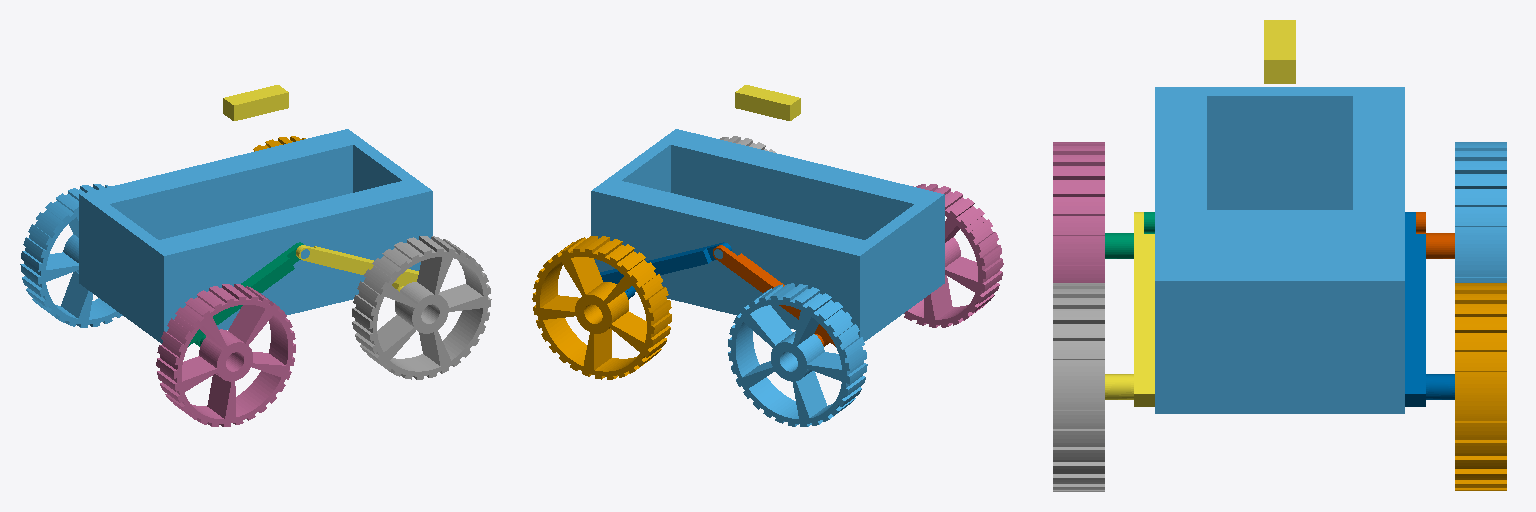
URDF robot description (patasmonkey):
<?xml version="1.0" encoding="utf-8"?>
<robot name="patasmonkey">

	<link name="base_link"/>
	<!-- 最初は車体主要部をbase_linkとしていたが、CADと座標系を合わせるために回したりしたいので大きさゼロの仮想base_linkを定義し、車体主要部リンク（body）をぶら下げる形とした -->

	<link name="body">
		<inertial>
			<mass value="8.878175441817634"/>
			<origin rpy="0 0 0" xyz="3.605945130529295e-17 -1.370259149601132e-15 0.061700238722655266"/>
			<inertia ixx="0.180154674257629" ixy="5.122274160385088e-17" ixz="1.9752846156165697e-17" iyy="0.0824654290636114" iyz="4.531262737562093e-16" izz="0.22992441349024134"/>
		</inertial>
		<collision name="body_collision">
			<origin rpy="0.0 -0.0 0.0" xyz="0.0 0.0 0.0"/>
			<geometry>
				<mesh filename="package://pm_description/meshes/body.stl" scale="0.001 0.001 0.001"/>
			</geometry>
		</collision>
		<visual name="body_visual">
			<origin rpy="0.0 -0.0 0.0" xyz="0.0 0.0 0.0"/>
			<geometry>
				<mesh filename="package://pm_description/meshes/body.stl" scale="0.001 0.001 0.001"/>
			</geometry>
		</visual>
	</link>
	<link name="wheelarm_rightrear">
		<inertial>
			<mass value="0.11129201234266223"/>
			<origin rpy="0 0 0" xyz="0.011864073144704071 -0.11539021627920214 -0.057812154810178235"/>
			<inertia ixx="0.00044081613489392916" ixy="1.3004019884530748e-05" ixz="1.1126423064250356e-05" iyy="0.00011346844003993653" iyz="-0.0001751098519904491" izz="0.00034575987847753427"/>
		</inertial>
		<collision name="wheelarm_rightrear_collision">
			<origin rpy="0.0 0.4363323129985771 -1.5707963267948966" xyz="1.3877787807814457e-17 7.50720839698537e-18 -1.3877787807814457e-17"/>
			<geometry>
				<mesh filename="package://pm_description/meshes/wheelarm_1.stl" scale="0.001 0.001 0.001"/>
			</geometry>
		</collision>
		<visual name="wheelarm_rightrear_visual">
			<origin rpy="0.0 0.4363323129985771 -1.5707963267948966" xyz="1.3877787807814457e-17 7.50720839698537e-18 -1.3877787807814457e-17"/>
			<geometry>
				<mesh filename="package://pm_description/meshes/wheelarm_1.stl" scale="0.001 0.001 0.001"/>
			</geometry>
		</visual>
	</link>
	<link name="wheelarm_rightfront">
		<inertial>
			<mass value="0.1112920123426623"/>
			<origin rpy="0 0 0" xyz="0.002309209808224133 0.11539021627920193 -0.05781215481017842"/>
			<inertia ixx="0.00044081613489390466" ixy="-7.771667430638374e-06" ixz="8.488137973844268e-06" iyy="0.00011326169495537535" iyz="0.00017510985199043966" izz="0.00034555313339295284"/>
		</inertial>
		<collision name="wheelarm_rightfront_collision">
			<origin rpy="3.141592653589793 0.4363323129985816 1.5707963267948966" xyz="0.010000000000000009 0.0 0.0"/>
			<geometry>
				<mesh filename="package://pm_description/meshes/wheelarm_2.stl" scale="0.001 0.001 0.001"/>
			</geometry>
		</collision>
		<visual name="wheelarm_rightfront_visual">
			<origin rpy="3.141592653589793 0.4363323129985816 1.5707963267948966" xyz="0.010000000000000009 0.0 0.0"/>
			<geometry>
				<mesh filename="package://pm_description/meshes/wheelarm_2.stl" scale="0.001 0.001 0.001"/>
			</geometry>
		</visual>
	</link>
	<link name="wheelarm_leftfront">
		<inertial>
			<mass value="0.11129201234266223"/>
			<origin rpy="0 0 0" xyz="-0.011864073144703974 0.115390216279202 -0.057812154810178505"/>
			<inertia ixx="0.0004408161348938993" ixy="1.3004019884530748e-05" ixz="-1.1126423064250356e-05" iyy="0.00011346844003993298" iyz="0.00017510985199043798" izz="0.0003457598784775087"/>
		</inertial>
		<collision name="wheelarm_leftfront_collision">
			<origin rpy="0.0 0.4363323129985823 1.5707963267948966" xyz="0.0 0.0 0.0"/>
			<geometry>
				<mesh filename="package://pm_description/meshes/wheelarm_1.stl" scale="0.001 0.001 0.001"/>
			</geometry>
		</collision>
		<visual name="wheelarm_leftfront_visual">
			<origin rpy="0.0 0.4363323129985823 1.5707963267948966" xyz="0.0 0.0 0.0"/>
			<geometry>
				<mesh filename="package://pm_description/meshes/wheelarm_1.stl" scale="0.001 0.001 0.001"/>
			</geometry>
		</visual>
	</link>
	<link name="wheelarm_leftrear">
		<inertial>
			<mass value="0.1112920123426623"/>
			<origin rpy="0 0 0" xyz="-0.002309209808224133 -0.11539021627920193 -0.05781215481017848"/>
			<inertia ixx="0.00044081613489389967" ixy="-7.771667430638374e-06" ixz="-8.488137973844356e-06" iyy="0.00011326169495537428" iyz="-0.00017510985199043806" izz="0.00034555313339294997"/>
		</inertial>
		<collision name="wheelarm_leftrear_collision">
			<origin rpy="3.141592653589793 0.4363323129985823 -1.5707963267948966" xyz="-0.010000000000000009 0.0 0.0"/>
			<geometry>
				<mesh filename="package://pm_description/meshes/wheelarm_2.stl" scale="0.001 0.001 0.001"/>
			</geometry>
		</collision>
		<visual name="wheelarm_leftrear_visual">
			<origin rpy="3.141592653589793 0.4363323129985823 -1.5707963267948966" xyz="-0.010000000000000009 0.0 0.0"/>
			<geometry>
				<mesh filename="package://pm_description/meshes/wheelarm_2.stl" scale="0.001 0.001 0.001"/>
			</geometry>
		</visual>
	</link>
	<link name="wheel_rightrear">
		<inertial>
			<mass value="0.6459736269326636"/>
			<origin rpy="0 0 0" xyz="0.02500000000000005 -8.548717289613705e-14 -3.995788481992932e-14"/>
			<inertia ixx="0.0038053875071388916" ixy="2.842170943040401e-18" ixz="1.226796442210798e-18" iyy="0.002037271592695285" iyz="2.1636328284557748e-13" izz="0.0020372715923322174"/>
		</inertial>
		<collision name="wheel_rightrear_collision">
			<origin rpy="0.0 -0.4363323129985797 1.5707963267948966" xyz="0.05000000000000002 0.0 0.0"/>
			<geometry>
				<mesh filename="package://pm_description/meshes/wheel.stl" scale="0.001 0.001 0.001"/>
			</geometry>
		</collision>
		<visual name="wheel_rightrear_visual">
			<origin rpy="0.0 -0.4363323129985797 1.5707963267948966" xyz="0.05000000000000002 0.0 0.0"/>
			<geometry>
				<mesh filename="package://pm_description/meshes/wheel.stl" scale="0.001 0.001 0.001"/>
			</geometry>
		</visual>
	</link>
	<link name="wheel_rightfront">
		<inertial>
			<mass value="0.6459736269326636"/>
			<origin rpy="0 0 0" xyz="0.025000000000000022 -8.554268404736831e-14 3.978946078869727e-14"/>
			<inertia ixx="0.0038053875071388916" ixy="-2.842170943040401e-18" ixz="4.3021142204224814e-20" iyy="0.002037271592695302" iyz="-2.163487167194944e-13" izz="0.0020372715923322004"/>
		</inertial>
		<collision name="wheel_rightfront_collision">
			<origin rpy="0.0 0.4363323129985819 1.5707963267948966" xyz="0.04999999999999999 0.0 0.0"/>
			<geometry>
				<mesh filename="package://pm_description/meshes/wheel.stl" scale="0.001 0.001 0.001"/>
			</geometry>
		</collision>
		<visual name="wheel_rightfront_visual">
			<origin rpy="0.0 0.4363323129985819 1.5707963267948966" xyz="0.04999999999999999 0.0 0.0"/>
			<geometry>
				<mesh filename="package://pm_description/meshes/wheel.stl" scale="0.001 0.001 0.001"/>
			</geometry>
		</visual>
	</link>
	<link name="wheel_leftfront">
		<inertial>
			<mass value="0.6459736269326636"/>
			<origin rpy="0 0 0" xyz="-0.02500000000000005 8.545941732052142e-14 -3.9957891596192896e-14"/>
			<inertia ixx="0.0038053875071388916" ixy="2.842170943040401e-18" ixz="-1.2261025528204072e-18" iyy="0.0020372715926952906" iyz="-2.1636328284557748e-13" izz="0.0020372715923322117"/>
		</inertial>
		<collision name="wheel_leftfront_collision">
			<origin rpy="0.0 -0.4363323129985824 -1.5707963267948966" xyz="-0.05000000000000002 0.0 0.0"/>
			<geometry>
				<mesh filename="package://pm_description/meshes/wheel.stl" scale="0.001 0.001 0.001"/>
			</geometry>
		</collision>
		<visual name="wheel_leftfront_visual">
			<origin rpy="0.0 -0.4363323129985824 -1.5707963267948966" xyz="-0.05000000000000002 0.0 0.0"/>
			<geometry>
				<mesh filename="package://pm_description/meshes/wheel.stl" scale="0.001 0.001 0.001"/>
			</geometry>
		</visual>
	</link>
	<link name="wheel_leftrear">
		<inertial>
			<mass value="0.6459736269326636"/>
			<origin rpy="0 0 0" xyz="-0.025000000000000022 8.554268404736831e-14 3.9789454012433695e-14"/>
			<inertia ixx="0.0038053875071388916" ixy="0.0" ixz="-4.3021142204224814e-20" iyy="0.002037271592695305" iyz="2.163487167194944e-13" izz="0.002037271592332195"/>
		</inertial>
		<collision name="wheel_leftrear_collision">
			<origin rpy="0.0 0.4363323129985823 -1.5707963267948966" xyz="-0.04999999999999999 0.0 0.0"/>
			<geometry>
				<mesh filename="package://pm_description/meshes/wheel.stl" scale="0.001 0.001 0.001"/>
			</geometry>
		</collision>
		<visual name="wheel_leftrear_visual">
			<origin rpy="0.0 0.4363323129985823 -1.5707963267948966" xyz="-0.04999999999999999 0.0 0.0"/>
			<geometry>
				<mesh filename="package://pm_description/meshes/wheel.stl" scale="0.001 0.001 0.001"/>
			</geometry>
		</visual>
	</link>

	<!-- HWT905-RS485 IMU -->
	<link name="wit_imu_link">
		<visual>
			<origin xyz="0 0 0" rpy="0 0 0"/>
			<geometry>
			<box size="0.04 0.04 0.015"/>
			</geometry>
		</visual>
	</link>

	<!-- OAK-D S2 body/reference point -->
	<link name="oakd_link">
		<visual>
		<origin xyz="0 0 0" rpy="0 0 0"/>
		<geometry>
			<box size="0.09 0.03 0.025"/>
		</geometry>
		</visual>
	</link>
	<!-- OAK-D internal IMU frame -->
	<link name="oakd_imu_link"/>
	<!-- Mono camera physical frames: ROS body-style frames, x forward, y left, z up -->
  	<link name="cam0_link"/>
  	<link name="cam1_link"/>
	<!-- Mono camera optical frames: x right, y down, z forward -->
	<link name="cam0_optical_frame"/>
	<link name="cam1_optical_frame"/>
	<!-- RGB camera frame -->
	<link name="rgb_camera_link"/>
	<link name="rgb_camera_optical_frame"/>

	<!-- GPSのリンク（アンテナ位置を基準） -->
	<link name="gps_link"/>
	<!-- Visual Odometry用の仮想リンク -->
	<link name="openvins_imu_link"/>

	<!-- 大きさを持たないbase_linkから車体主要部リンクであるbodyに回転した固定リンクを貼ることで、CADの座標系からROS 2座標系に変換（X座標が車両前方になるようにする） -->
	<joint name="base_link_to_body" type="fixed">
		<parent link="base_link"/>
		<child link="body"/>
		<origin xyz="0 0 0" rpy="0 0 -1.57079632679"/>
	</joint>
	<joint name="wheelarmjoint_rightrear" type="continuous">
		<parent link="body"/>
		<child link="wheelarm_rightrear"/>
		<origin rpy="0 0 0" xyz="0.11999999999999998 -7.50720839698537e-18 0.10000000000000002"/>
		<axis xyz="-1.0 0.0 0.0"/>
	</joint>
	<joint name="wheelarmjoint_rightfront" type="continuous">
		<parent link="body"/>
		<child link="wheelarm_rightfront"/>
		<origin rpy="0 0 0" xyz="0.13 4.440892098500626e-18 0.10000000000000002"/>
		<axis xyz="-1.0 0.0 0.0"/>
	</joint>
	<joint name="wheelarmjoint_leftfront" type="continuous">
		<parent link="body"/>
		<child link="wheelarm_leftfront"/>
		<origin rpy="0 0 0" xyz="-0.12 0.0 0.1"/>
		<axis xyz="1.0 0.0 0.0"/>
	</joint>
	<joint name="wheelarmjoint_leftrear" type="continuous">
		<parent link="body"/>
		<child link="wheelarm_leftrear"/>
		<origin rpy="0 0 0" xyz="-0.13 0.0 0.1"/>
		<axis xyz="1.0 0.0 0.0"/>
	</joint>
	<joint name="wheelaxis_rightrear" type="continuous">
		<parent link="wheelarm_rightrear"/>
		<child link="wheel_rightrear"/>
		<origin rpy="0 0 0" xyz="0.048000000000000306 -0.16012172781242637 -0.10004368005208156"/>
		<axis xyz="-1.0 0.0 0.0"/>
	</joint>
	<joint name="wheelaxis_rightfront" type="continuous">
		<parent link="wheelarm_rightfront"/>
		<child link="wheel_rightfront"/>
		<origin rpy="0 0 0" xyz="0.03800000000000012 0.16012172781242617 -0.10004368005208177"/>
		<axis xyz="-1.0 0.0 0.0"/>
	</joint>
	<joint name="wheelaxis_leftfront" type="continuous">
		<parent link="wheelarm_leftfront"/>
		<child link="wheel_leftfront"/>
		<origin rpy="0 0 0" xyz="-0.04800000000000004 0.16012172781242623 -0.10004368005208186"/>
		<axis xyz="-1.0 0.0 0.0"/>
	</joint>
	<joint name="wheelaxis_leftrear" type="continuous">
		<parent link="wheelarm_leftrear"/>
		<child link="wheel_leftrear"/>
		<origin rpy="0 0 0" xyz="-0.038000000000000006 -0.16012172781242623 -0.10004368005208186"/>
		<axis xyz="-1.0 0.0 0.0"/>
	</joint>

	<joint name="base_link_to_wit_imu_link" type="fixed">
		<parent link="base_link"/>
		<child link="wit_imu_link"/>

		<!-- 要実測: base_link原点からIMU中心までの位置 [m] -->
		<origin xyz="0.0 0.0 0.01" rpy="0.0 0.0 0.0"/>
	</joint>

	<!-- base_link -> OAK-D center.
       TODO: replace x/y/z with measured mounting position.
       Current assumption: OAK-D center is directly above base_link by 0.28 m. -->
	<joint name="base_link_to_oakd_link" type="fixed">
		<parent link="base_link"/>
		<child link="oakd_link"/>
		<origin xyz="0.0 0.0 0.28" rpy="0.0 0.0 0.0"/>
	</joint>
	<!-- OAK-D internal IMU.
       Approximate placement from Kalibr: close to cam1/right side.
       For TF tree use, keeping it at oakd_link is acceptable unless precise IMU visualization is needed. -->
	<joint name="oakd_link_to_oakd_imu_link" type="fixed">
		<parent link="oakd_link"/>
		<child link="oakd_imu_link"/>
		<origin xyz="0.0 0.0 0.0" rpy="0.0 0.0 0.0"/>
	</joint>

	<!-- Visual Odometry用の仮想ジョイント：OAK−D内のIMUと、実際のOpenVINS出力が出す座標系を合わせるためのアダプタ的な役割 -->
	<joint name="oakd_link_to_openvins_imu_link" type="fixed">
		<parent link="oakd_link"/>
		<child link="openvins_imu_link"/>
		<origin xyz="0.0 0.0 0.0" rpy="0.0 0.0 0.0"/>
	</joint>
	
	<!-- cam0 = left mono camera.
       Baseline from Kalibr: approximately 0.07533 m, so half baseline is 0.0376655 m. -->
	<joint name="oakd_link_to_cam0_link" type="fixed">
		<parent link="oakd_link"/>
		<child link="cam0_link"/>
		<origin xyz="0.0 0.0376655 0.0" rpy="0.0 0.0 0.0"/>
	</joint>
	<!-- cam1 = right mono camera -->
	<joint name="oakd_link_to_cam1_link" type="fixed">
		<parent link="oakd_link"/>
		<child link="cam1_link"/>
		<origin xyz="0.0 -0.0376655 0.0" rpy="0.0 0.0 0.0"/>
	</joint>

	<!-- Convert ROS camera link frame to optical frame.
       ROS link:    x forward, y left, z up
       Optical:     x right,   y down, z forward
       rpy = -90deg roll, 0 pitch, -90deg yaw -->
	<joint name="cam0_link_to_cam0_optical_frame" type="fixed">
		<parent link="cam0_link"/>
		<child link="cam0_optical_frame"/>
		<origin xyz="0.0 0.0 0.0" rpy="-1.57079632679 0.0 -1.57079632679"/>
	</joint>
	<joint name="cam1_link_to_cam1_optical_frame" type="fixed">
		<parent link="cam1_link"/>
		<child link="cam1_optical_frame"/>
		<origin xyz="0.0 0.0 0.0" rpy="-1.57079632679 0.0 -1.57079632679"/>
	</joint>

	<!-- RGB camera is assumed to be at OAK-D center.
       Adjust if EEPROM/Kalibr gives a more precise RGB extrinsic later. -->
	<joint name="oakd_link_to_rgb_camera_link" type="fixed">
		<parent link="oakd_link"/>
		<child link="rgb_camera_link"/>
		<origin xyz="0.0 0.0 0.0" rpy="0.0 0.0 0.0"/>
	</joint>

	<joint name="rgb_camera_link_to_rgb_camera_optical_frame" type="fixed">
		<parent link="rgb_camera_link"/>
		<child link="rgb_camera_optical_frame"/>
		<origin xyz="0.0 0.0 0.0" rpy="-1.57079632679 0.0 -1.57079632679"/>
	</joint>

	<!-- gpsアンテナの位置など記載 -->
	<joint name="gps_joint" type="fixed">
		<parent link="base_link"/>
		<child link="gps_link"/>
		<origin xyz="-0.02 -0.07 0.25" rpy="0 0 0"/>
	</joint>
</robot>

--- Render facts (derived) ---
Views: 3 orthographic renders of the robot side by side, from view 1: azimuth 30°, elevation 25°; view 2: azimuth 150°, elevation 25°; view 3: azimuth 270°, elevation 25°.
Robot: patasmonkey — 21 links, 20 joints (8 continuous, 12 fixed); root link base_link; default pose: every joint at zero.
Links seen in each view (by area): view 1: body, wheel_rightrear, wheel_rightfront, wheel_leftrear, oakd_link, wheelarm_rightrear, wheelarm_rightfront; view 2: body, wheel_leftrear, wheel_leftfront, wheel_rightrear, oakd_link, wheelarm_leftrear, wheelarm_leftfront; view 3: body, wheel_rightfront, wheel_leftfront, wheel_rightrear, wheel_leftrear, wheelarm_leftfront, wheelarm_rightfront, oakd_link, wheelarm_rightrear, wheelarm_leftrear.
Boxes of the visible links, <box> form: body: <box>79,129,432,343</box>; wheel_rightrear: <box>156,284,295,426</box>; wheel_rightfront: <box>352,236,491,379</box>; wheel_leftrear: <box>20,184,122,327</box>; oakd_link: <box>223,85,288,120</box>; wheelarm_rightrear: <box>188,242,303,346</box>; wheelarm_rightfront: <box>296,245,418,291</box>; body: <box>591,129,944,341</box>; wheel_leftrear: <box>728,283,867,426</box>; wheel_leftfront: <box>532,236,671,379</box>; wheel_rightrear: <box>904,184,1003,327</box>; oakd_link: <box>735,85,800,120</box>; wheelarm_leftrear: <box>713,245,835,346</box>; wheelarm_leftfront: <box>600,242,731,299</box>; body: <box>1155,87,1404,413</box>; wheel_rightfront: <box>1053,283,1104,491</box>; wheel_leftfront: <box>1455,283,1506,490</box>; wheel_rightrear: <box>1053,142,1104,282</box>; wheel_leftrear: <box>1455,142,1506,282</box>; wheelarm_leftfront: <box>1405,212,1454,406</box>; wheelarm_rightfront: <box>1105,212,1154,406</box>; oakd_link: <box>1264,20,1295,83</box>; wheelarm_rightrear: <box>1105,212,1154,258</box>; wheelarm_leftrear: <box>1416,212,1454,258</box>.
Bounding box of the posed robot: 0.5202 × 0.436 × 0.3925 m (x, y, z).
9 mesh visuals loaded from 4 distinct referenced files (4 binary STL).
